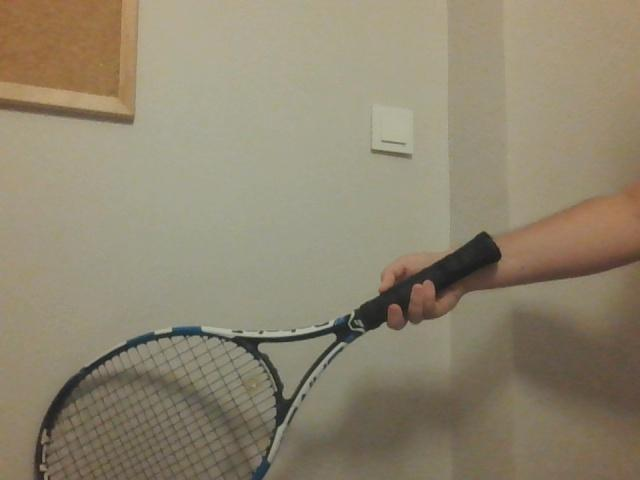Tennis-Racket: (34, 231, 497, 480)
